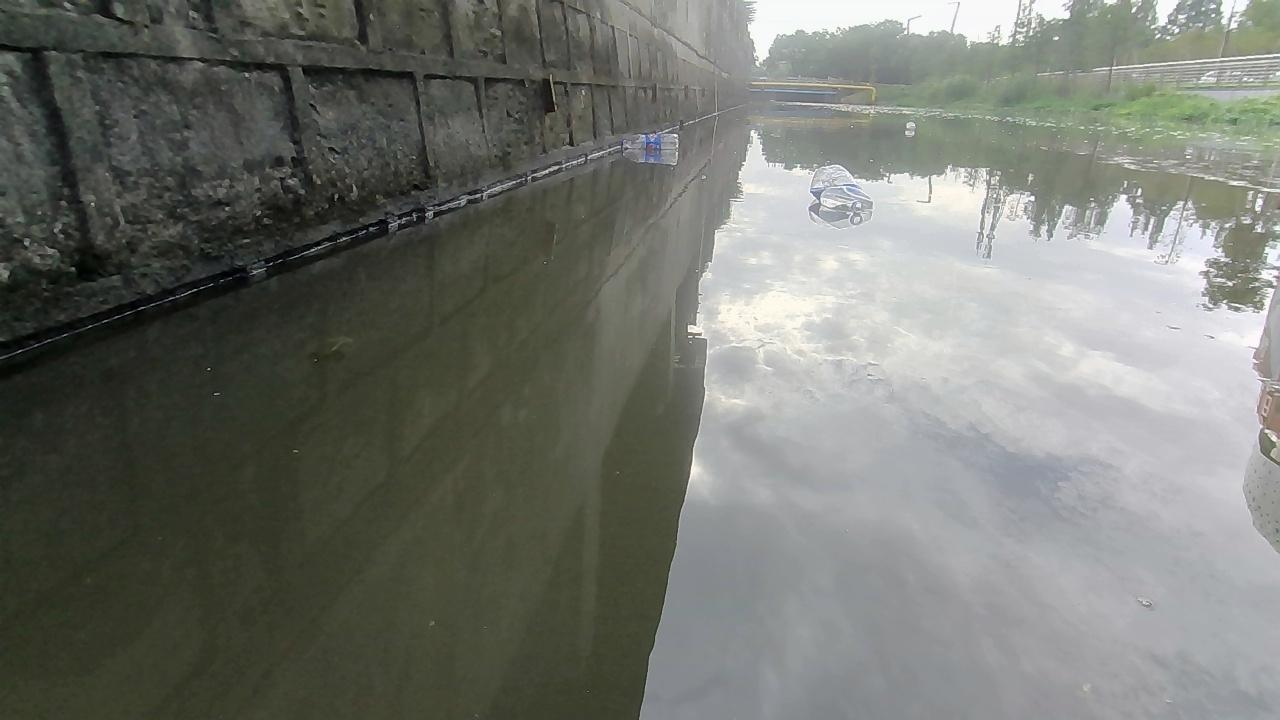Plastic: (809, 163, 876, 215), (620, 133, 680, 152), (905, 121, 916, 130)
